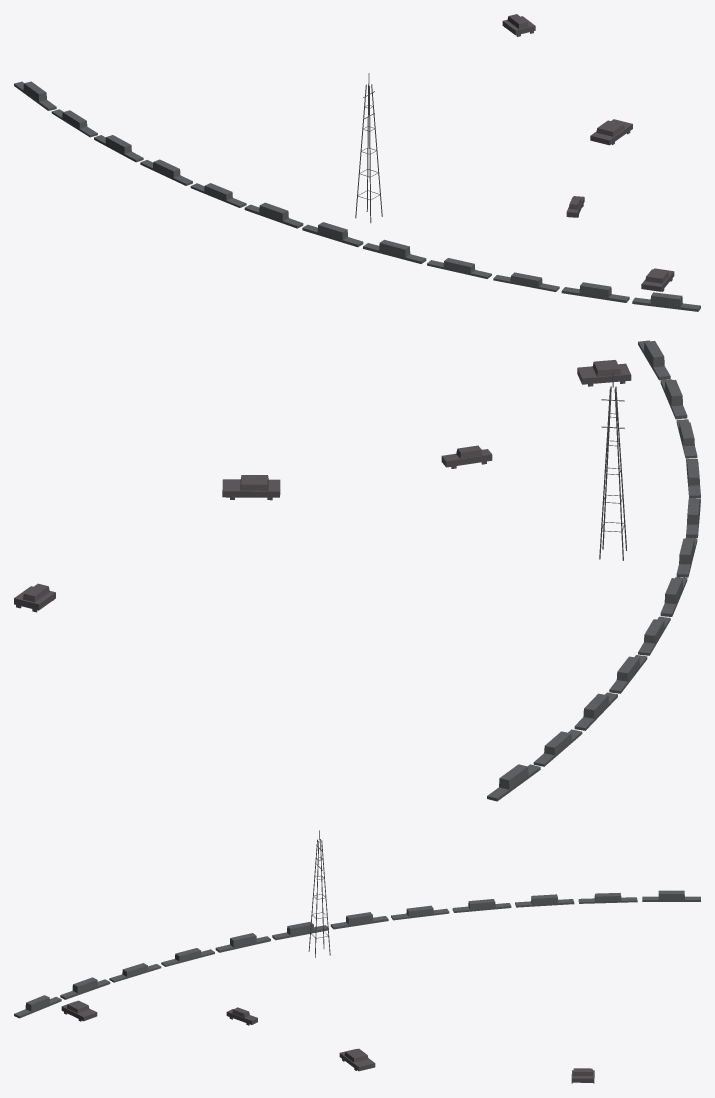
Rendered from SM_City_AlTariqAlMasdud_4.fbx.
The picture shows the model from 3 angles, top to bottom: view 1: azimuth 30°, elevation 25°; view 2: azimuth 150°, elevation 25°; view 3: azimuth 270°, elevation 25°; orthographic projection. The views are drawn at different scales.
Parts seen in each view (by area): view 1: SM_City_AlTariqAlMasdud_4; view 2: SM_City_AlTariqAlMasdud_4; view 3: SM_City_AlTariqAlMasdud_4.
Part boxes in pixels (left/top/right/bottom): SM_City_AlTariqAlMasdud_4: left=14, top=14, right=700, bottom=311; SM_City_AlTariqAlMasdud_4: left=14, top=340, right=700, bottom=801; SM_City_AlTariqAlMasdud_4: left=14, top=830, right=700, bottom=1083.
Size of the model in its own units: 6214 by 1923 by 9712.
Materials: 2 (2 with a texture image).
